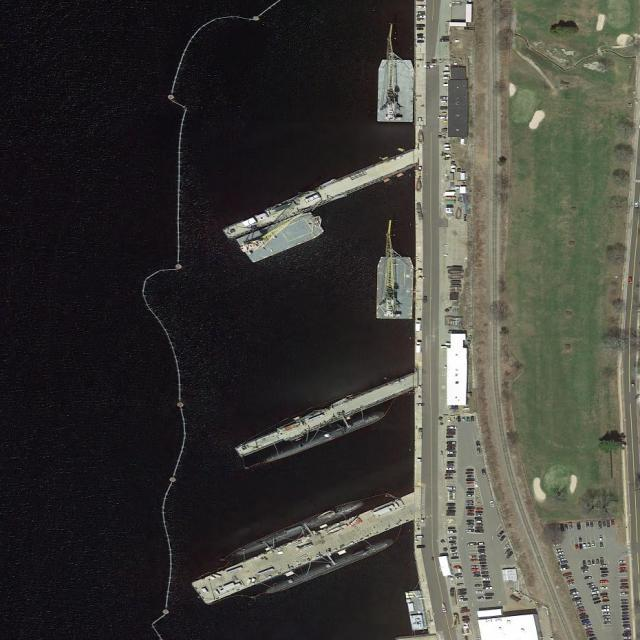Dock: (189, 489, 426, 609), (224, 149, 419, 244), (235, 372, 416, 460)
Submarine: (263, 537, 394, 596), (235, 501, 363, 556), (264, 414, 382, 465)
